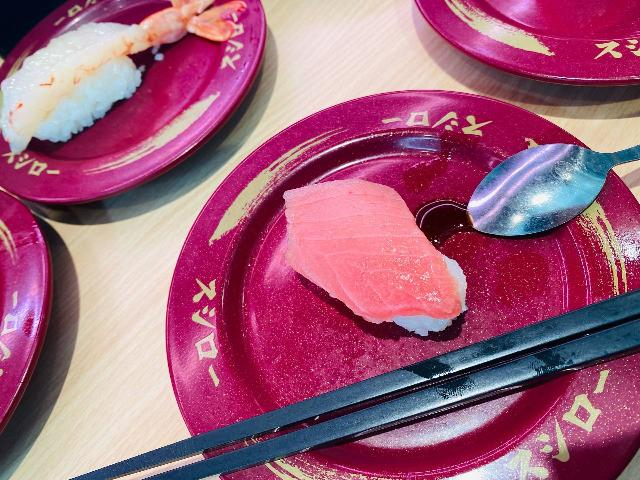janred: (209, 123, 640, 477), (0, 15, 251, 184), (0, 186, 111, 412), (407, 11, 640, 106)
